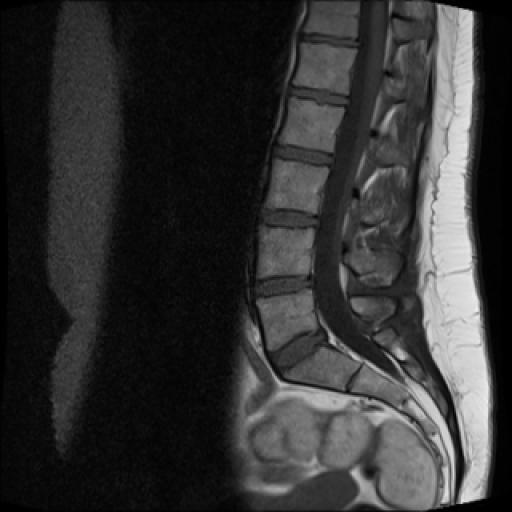L1: (293, 42, 357, 94)
L2: (279, 97, 345, 152)
L3: (265, 159, 329, 214)
L4: (255, 225, 314, 281)
L5: (256, 290, 318, 354)
S1: (283, 346, 362, 390)
